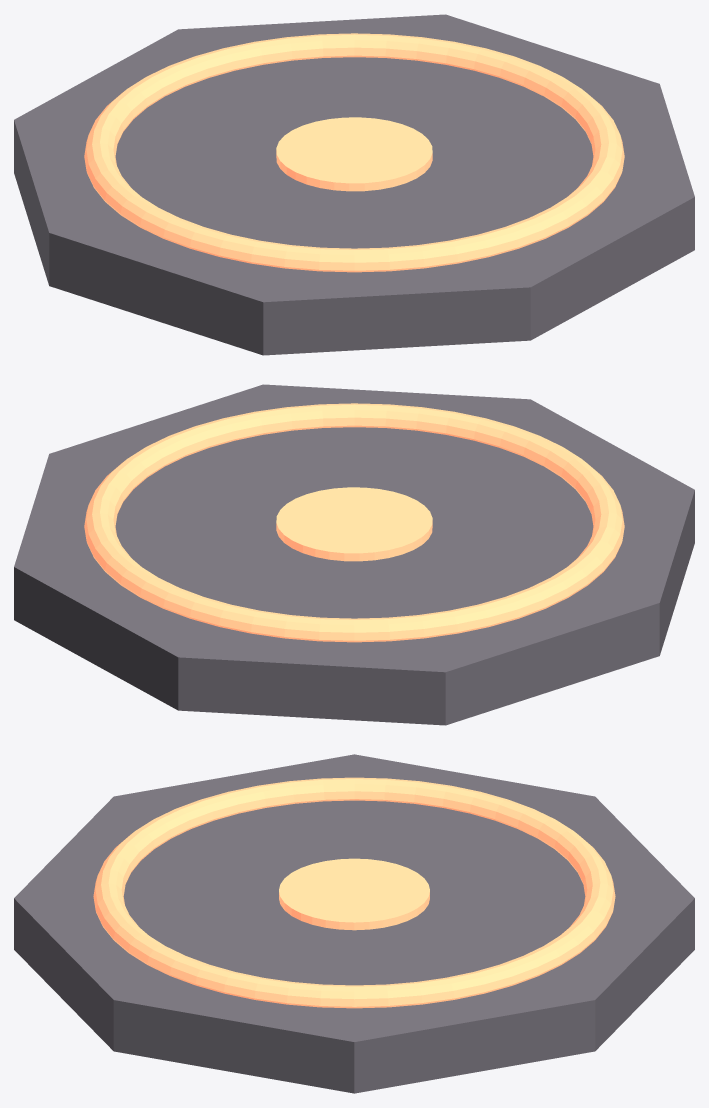
File: spire_elevator_platform.gltf
The picture shows the model from 3 angles, top to bottom: view 1: azimuth 30°, elevation 25°; view 2: azimuth 150°, elevation 25°; view 3: azimuth 270°, elevation 25°; orthographic projection. The views are drawn at different scales.
Parts seen in each view (by area): view 1: Cylinder, Torus, Cylinder.001; view 2: Cylinder, Torus, Cylinder.001; view 3: Cylinder, Torus, Cylinder.001.
Boxes of the visible parts, x1,y1,x2,y2 form: Cylinder: [14, 14, 694, 355]; Torus: [84, 33, 624, 272]; Cylinder.001: [276, 117, 432, 191]; Cylinder: [14, 384, 694, 725]; Torus: [84, 403, 624, 642]; Cylinder.001: [276, 487, 432, 561]; Cylinder: [14, 754, 694, 1093]; Torus: [93, 777, 615, 1008]; Cylinder.001: [279, 858, 429, 930].
Bounding box in the file's own units: 3.6 × 0.39 × 3.6.
